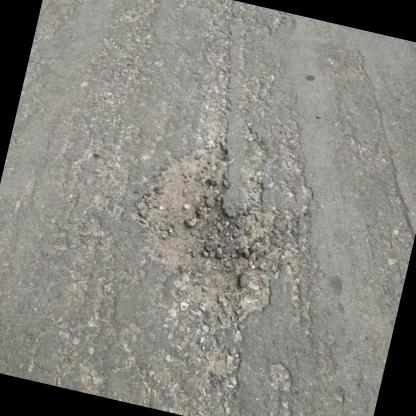pothole: (110, 127, 296, 332)
